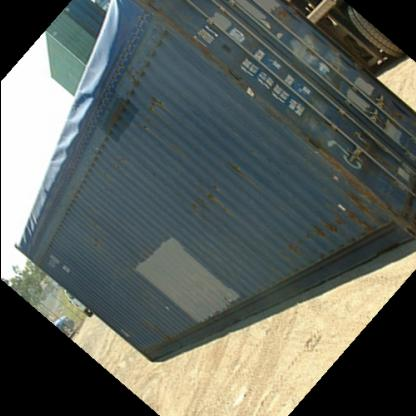Damage: (318, 152, 388, 233), (129, 92, 162, 138), (181, 182, 224, 212), (146, 323, 180, 347), (214, 156, 245, 180)
